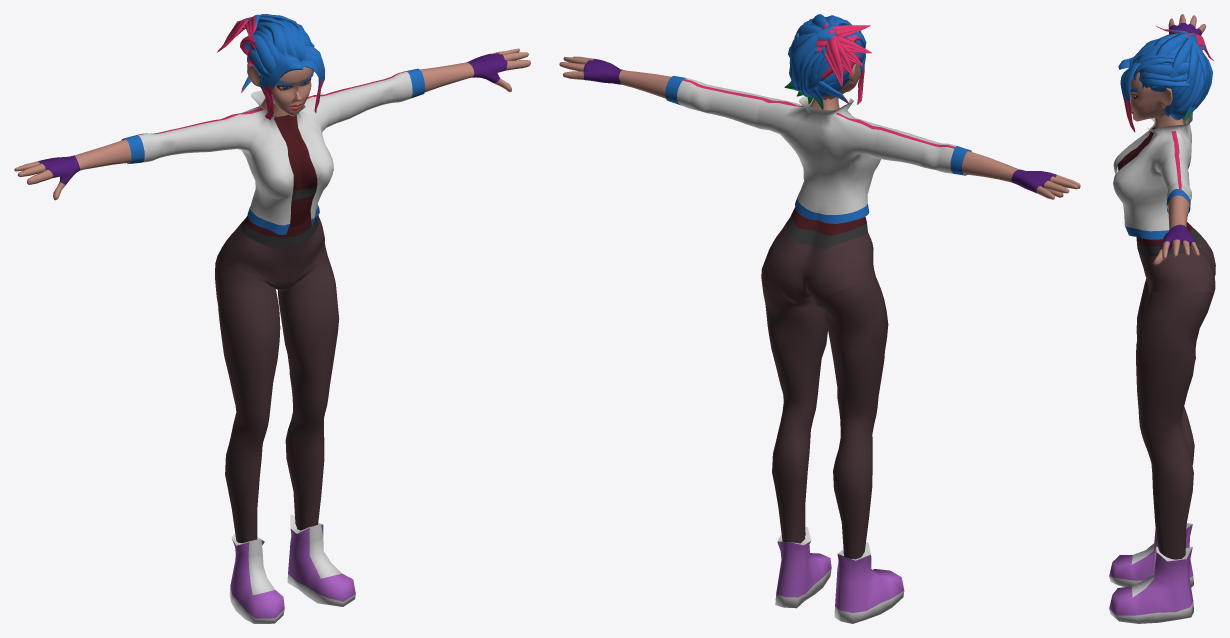
The model's file is BLUSA.fbx.
3 renders of one model, left to right at view 1: azimuth 30°, elevation 25°; view 2: azimuth 150°, elevation 25°; view 3: azimuth 270°, elevation 25°, orthographic. The views are drawn at different scales.
Parts seen in each view (by area): view 1: CORPO5_corpo.015_Cube.006_Cube.007, CORPO5_corpo.015_Cube.006_Cube.003, CORPO5_corpo.015_Cube.006_Cube.001; view 2: CORPO5_corpo.015_Cube.006_Cube.007, CORPO5_corpo.015_Cube.006_Cube.003, CORPO5_corpo.015_Cube.006_Cube.001; view 3: CORPO5_corpo.015_Cube.006_Cube.007, CORPO5_corpo.015_Cube.006_Cube.001, CORPO5_corpo.015_Cube.006_Cube.003.
Boxes of the visible parts, bbox=[...] form: CORPO5_corpo.015_Cube.006_Cube.007: bbox=[14, 48, 530, 623]; CORPO5_corpo.015_Cube.006_Cube.003: bbox=[121, 68, 425, 234]; CORPO5_corpo.015_Cube.006_Cube.001: bbox=[217, 14, 325, 119]; CORPO5_corpo.015_Cube.006_Cube.007: bbox=[559, 56, 1080, 623]; CORPO5_corpo.015_Cube.006_Cube.003: bbox=[665, 76, 971, 223]; CORPO5_corpo.015_Cube.006_Cube.001: bbox=[784, 14, 871, 109]; CORPO5_corpo.015_Cube.006_Cube.007: bbox=[1109, 14, 1215, 623]; CORPO5_corpo.015_Cube.006_Cube.001: bbox=[1118, 25, 1213, 131]; CORPO5_corpo.015_Cube.006_Cube.003: bbox=[1113, 112, 1192, 239].
Size of the model in its own units: 190 by 207 by 35.55.
